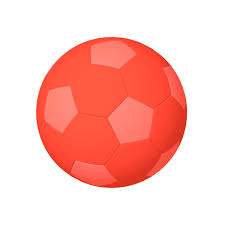football ball: (34, 36, 189, 191)
